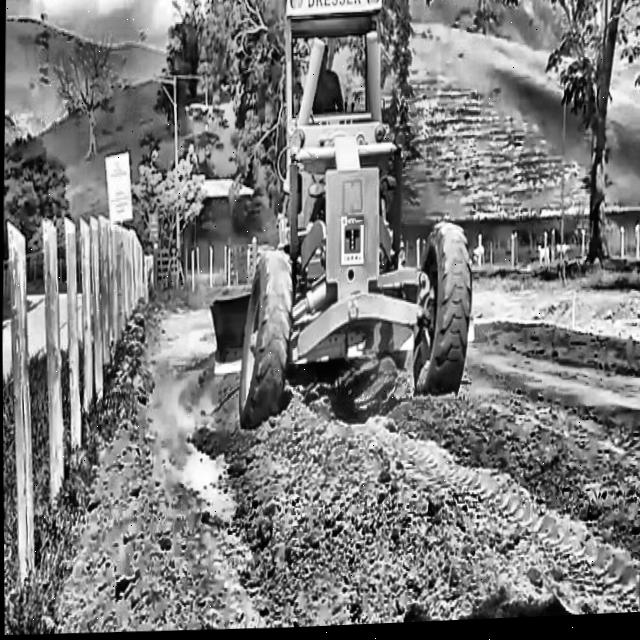buldozerpayloadergrader: (199, 0, 481, 435)
